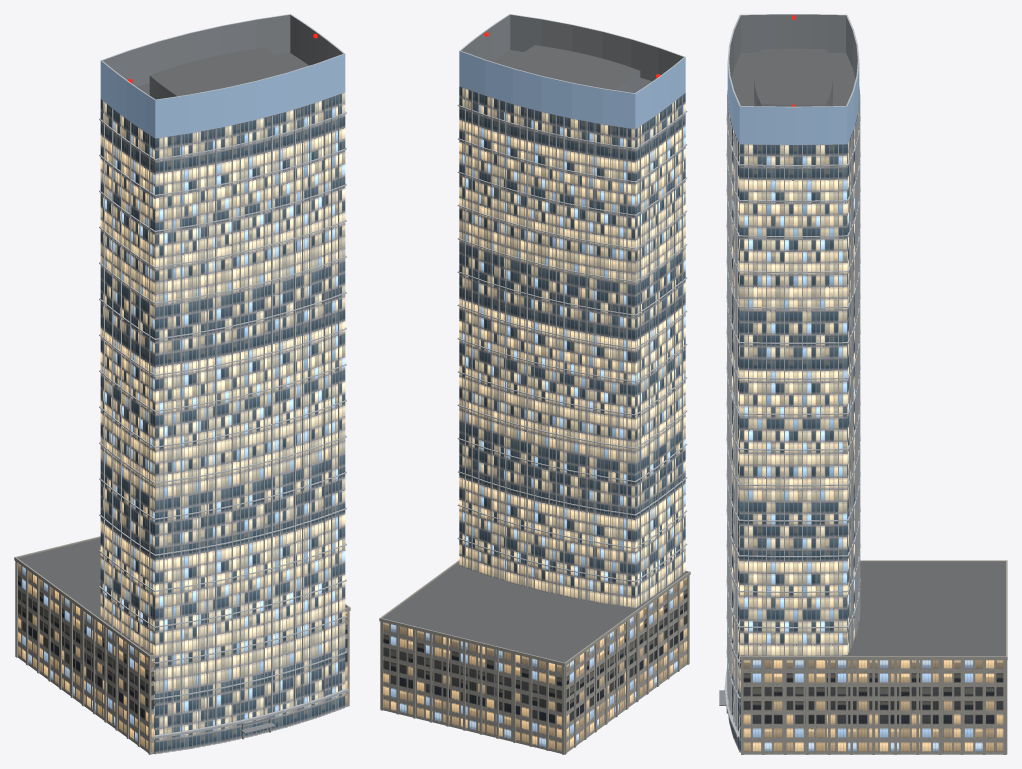
The model's file is tokyo_midtown_yaesu.glb.
3 renders of one model, left to right at view 1: azimuth 30°, elevation 25°; view 2: azimuth 150°, elevation 25°; view 3: azimuth 270°, elevation 25°, orthographic. The views are drawn at different scales.
Parts seen in each view (by area): view 1: tokyo_midtown_yaesu; view 2: tokyo_midtown_yaesu; view 3: tokyo_midtown_yaesu.
Boxes of the visible parts, x1,y1,x2,y2 form: tokyo_midtown_yaesu: (14,14,350,754); tokyo_midtown_yaesu: (379,14,690,754); tokyo_midtown_yaesu: (719,14,1007,754).
Size of the model in its own units: 77 by 240 by 97.
3 materials, 3 textured.
